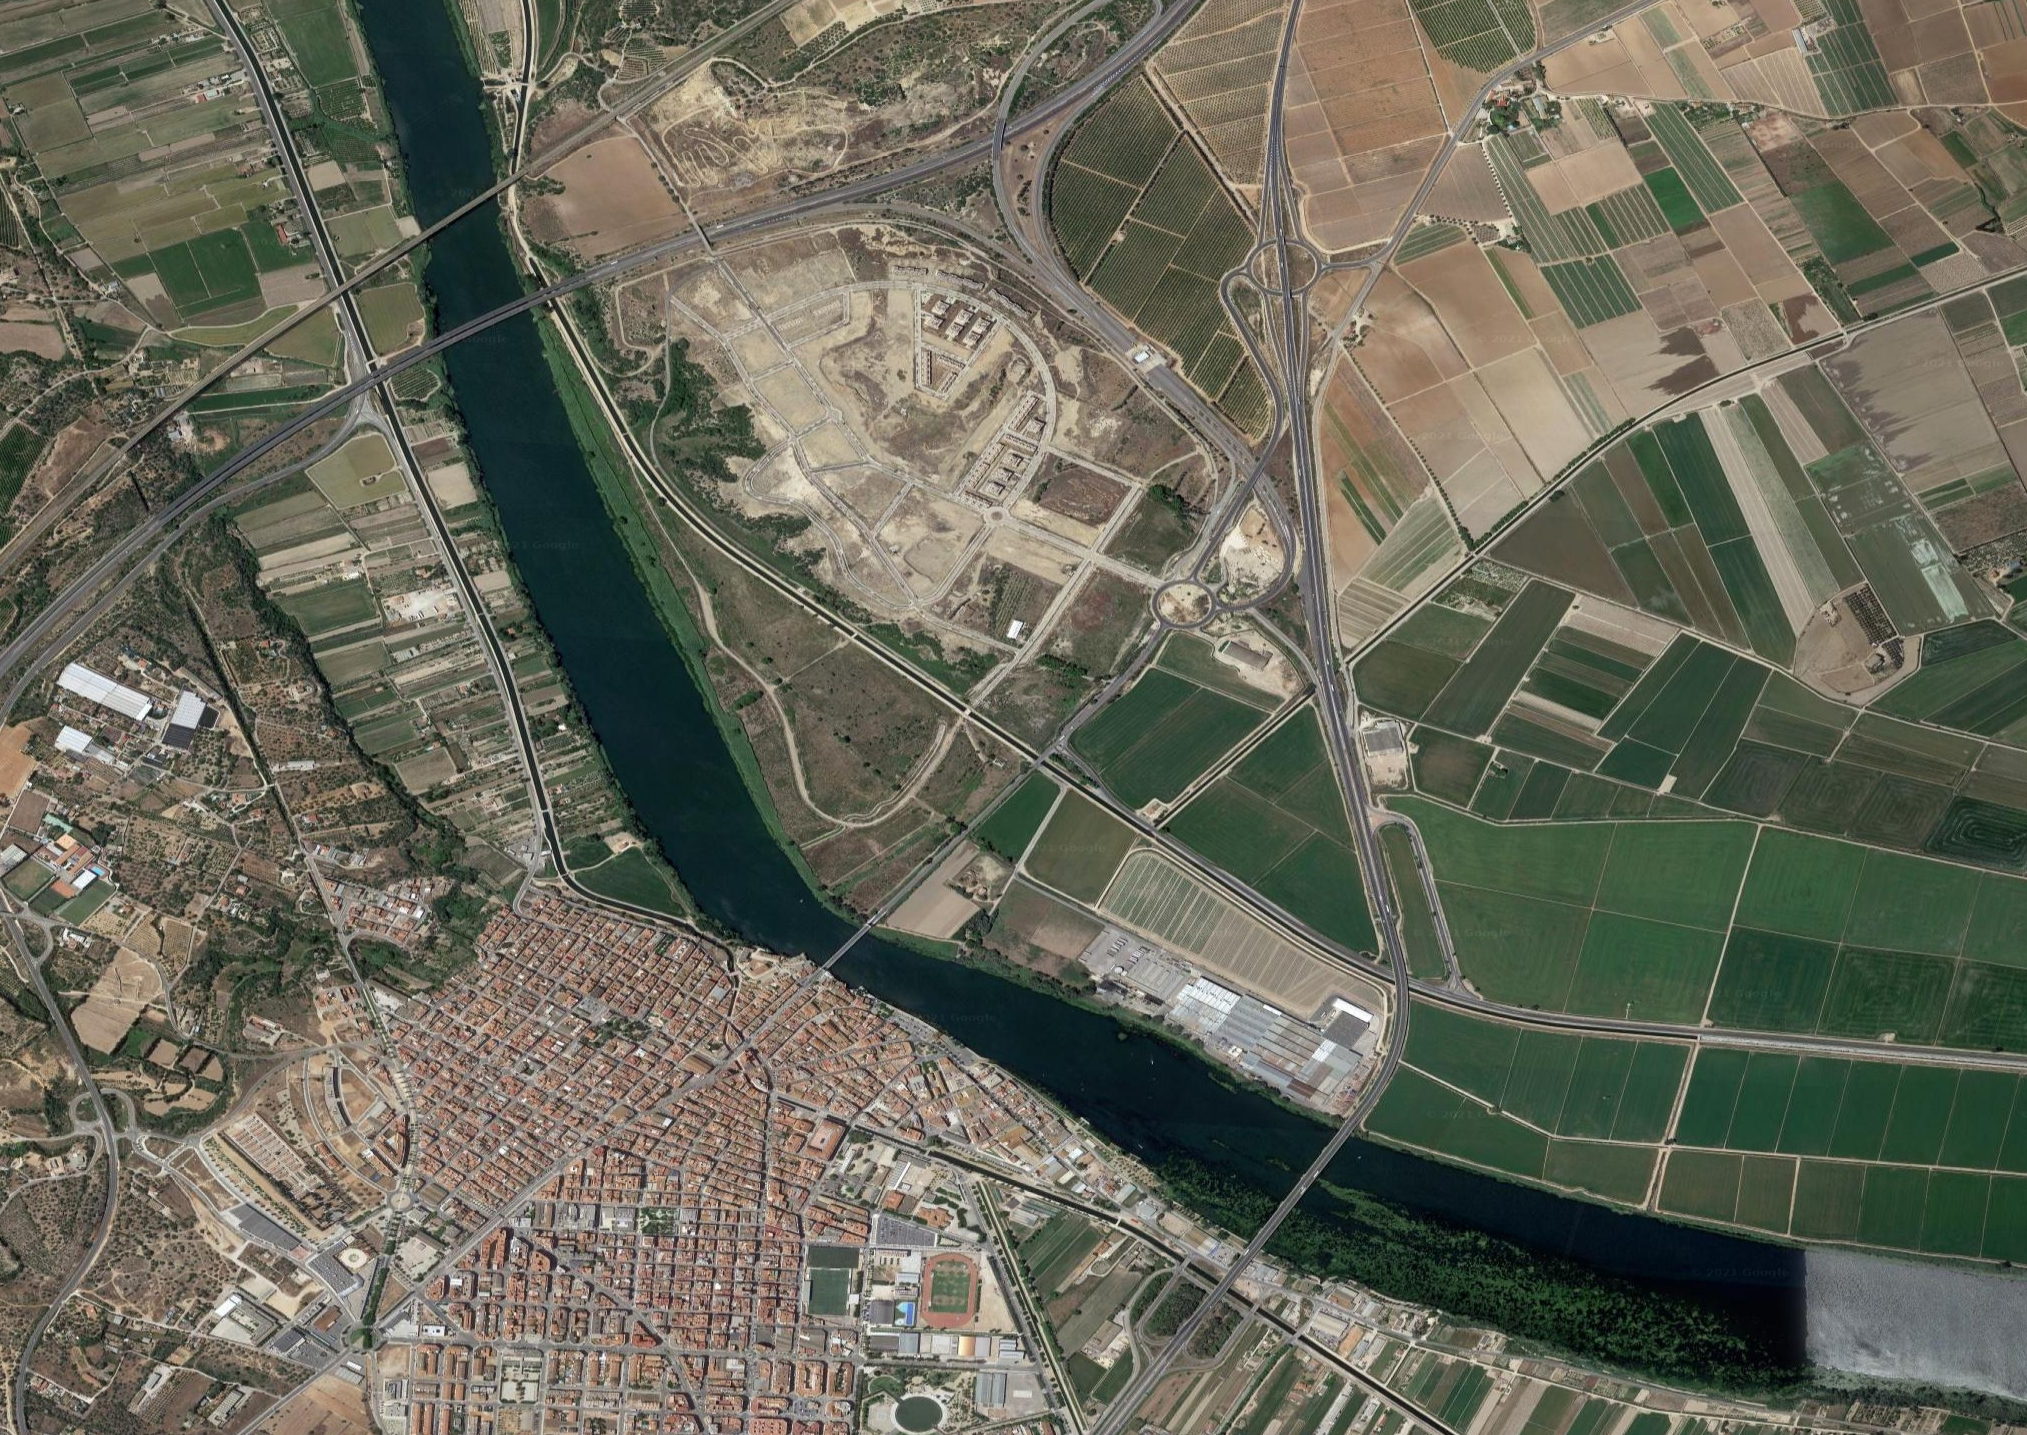bridge: (1243, 1124, 1351, 1258), (433, 290, 536, 351), (422, 179, 506, 242), (817, 924, 870, 972)
motorway: (301, 214, 523, 427), (89, 342, 312, 553), (1238, 1051, 1403, 1261), (993, 626, 1162, 803), (819, 804, 988, 982), (547, 193, 805, 307), (999, 2, 1188, 152), (1075, 300, 1250, 460), (800, 130, 1025, 253), (1087, 1263, 1241, 1435), (1139, 464, 1264, 640), (2, 505, 130, 676), (2, 874, 96, 1087), (444, 109, 621, 222), (620, 2, 795, 113), (1253, 290, 1330, 544), (1292, 540, 1367, 792), (1243, 2, 1308, 287), (1344, 797, 1417, 1047), (994, 144, 1098, 298), (61, 1086, 135, 1298), (2, 1294, 73, 1435)
